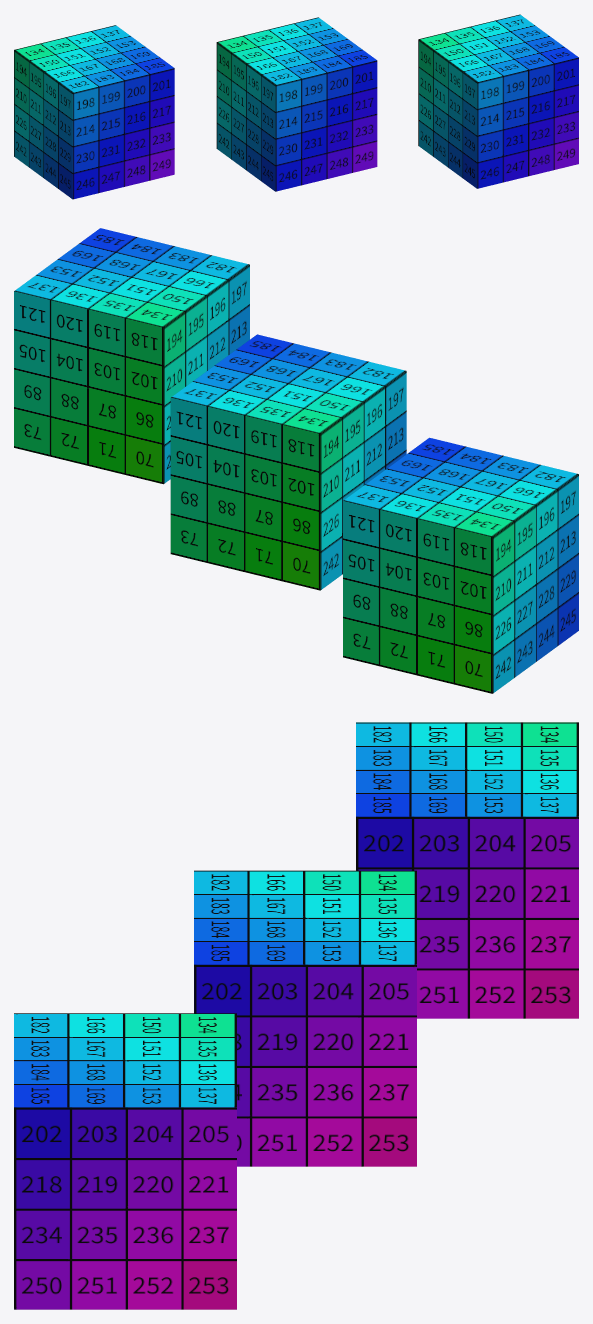
3 renders of one model, top to bottom at view 1: azimuth 30°, elevation 25°; view 2: azimuth 150°, elevation 25°; view 3: azimuth 270°, elevation 25°, orthographic. The views are drawn at different scales.
Visible parts, largest first — view 1: pCube1, pCube2, pCube3; view 2: pCube2, pCube1, pCube3; view 3: pCube3, pCube1, pCube2.
Part boxes in pixels (bbox=[...]): pCube1: bbox=[216, 17, 377, 191]; pCube2: bbox=[14, 25, 174, 199]; pCube3: bbox=[418, 14, 578, 188]; pCube2: bbox=[343, 437, 578, 693]; pCube1: bbox=[170, 334, 406, 590]; pCube3: bbox=[14, 228, 249, 484]; pCube3: bbox=[14, 1013, 236, 1309]; pCube1: bbox=[194, 870, 416, 1166]; pCube2: bbox=[356, 722, 578, 1018].
Bounding box in the file's own units: 14.76 × 3.61 × 9.16.
Materials: 1 (1 with a texture image).
